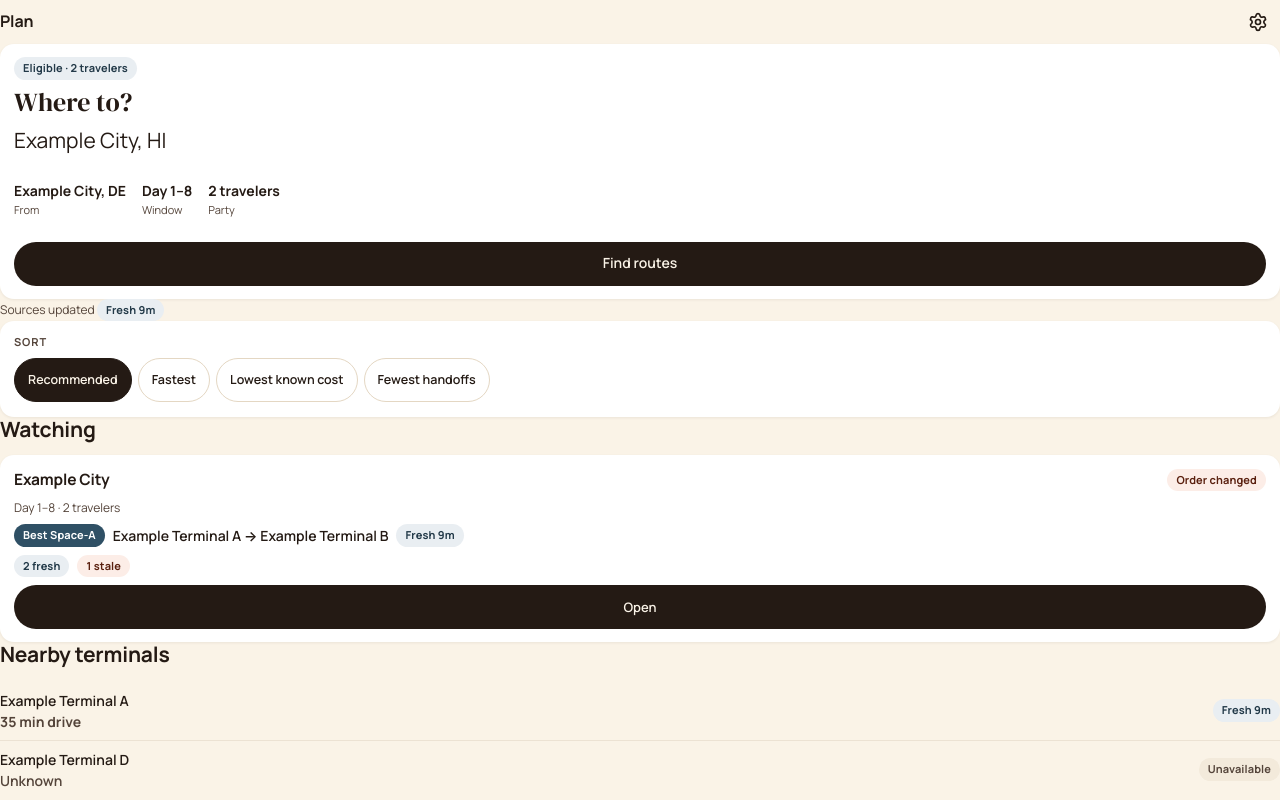
TripSettingsSheet › is closed until asked for, then opens as a labelled dialog
Click the button named "Trip settings" at (1258, 22), box 1236,0 -> 1279,44
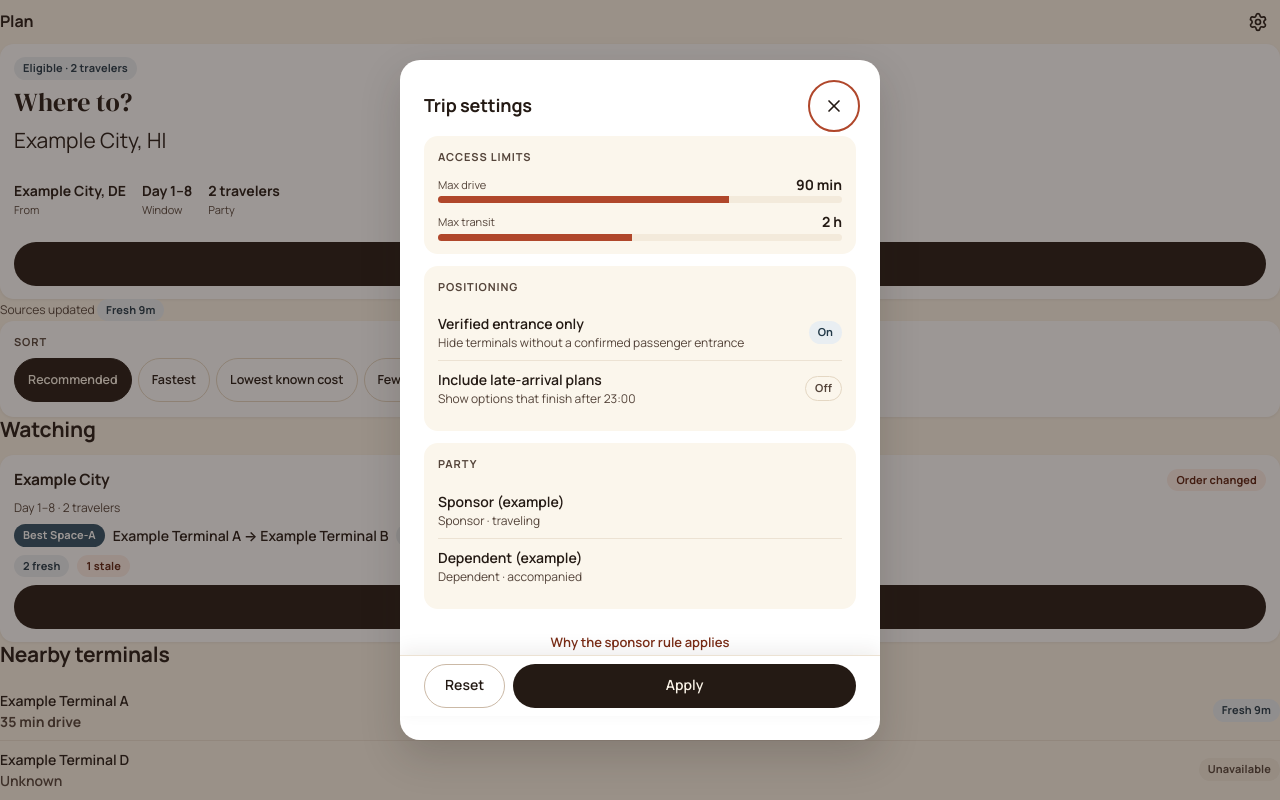
Check: the text "Access limits" is shown, box 438,149 -> 531,164
Check: the progress indicator named "Max drive" is shown, box 438,196 -> 842,203
Check: the progress indicator named "Max transit" is shown, box 438,234 -> 842,240
